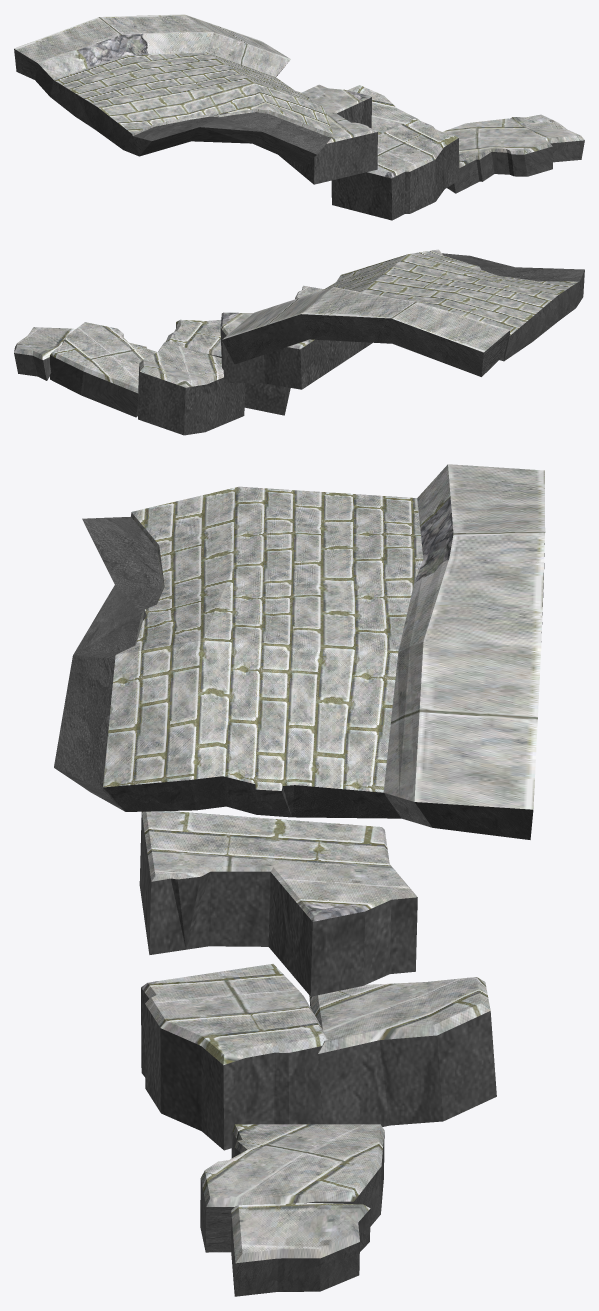
File: PoltaBattlePlanetPartsA_bake.dae
The picture shows the model from 3 angles, top to bottom: view 1: azimuth 30°, elevation 25°; view 2: azimuth 150°, elevation 25°; view 3: azimuth 270°, elevation 25°; orthographic projection. The views are drawn at different scales.
Visible parts, largest first — view 1: m0, m1, m2; view 2: m1, m0, m2; view 3: m0, m1, m2.
Part boxes in pixels (x1,y1,x2,y2): m0: (14, 14, 584, 178); m1: (14, 49, 584, 220); m2: (54, 52, 333, 134); m1: (14, 253, 584, 435); m0: (14, 285, 509, 393); m2: (322, 249, 578, 335); m0: (102, 464, 545, 1263); m1: (54, 516, 544, 1296); m2: (103, 486, 423, 792).
Bounding box in the file's own units: 4694 × 1711 × 2022.
4 materials, 4 textured.
